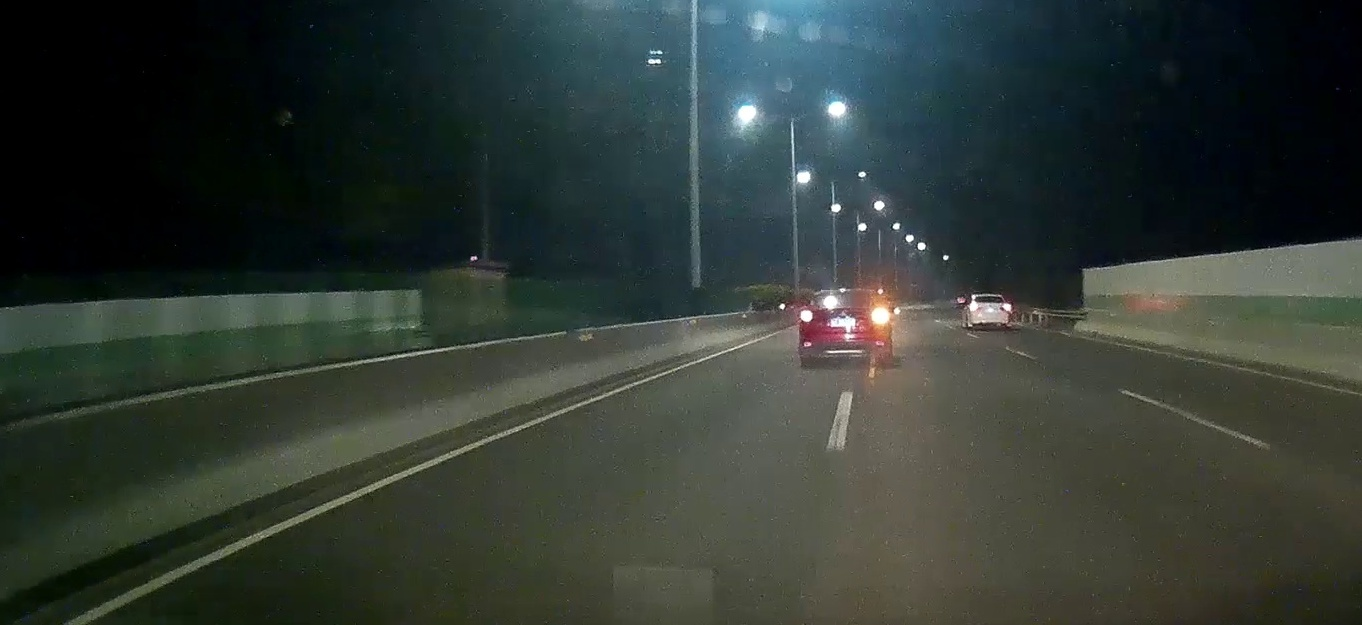L_light: (799, 308, 816, 323), (969, 303, 979, 311)
R_light: (870, 308, 890, 324), (1001, 303, 1011, 311)
T_light: (838, 290, 854, 295), (985, 295, 993, 298)
night-no: (968, 293, 1011, 330)
night-right: (798, 288, 892, 364)
